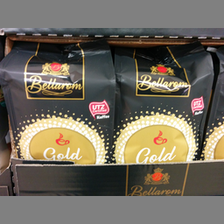chocolate: (1, 47, 115, 163), (113, 47, 214, 161)
